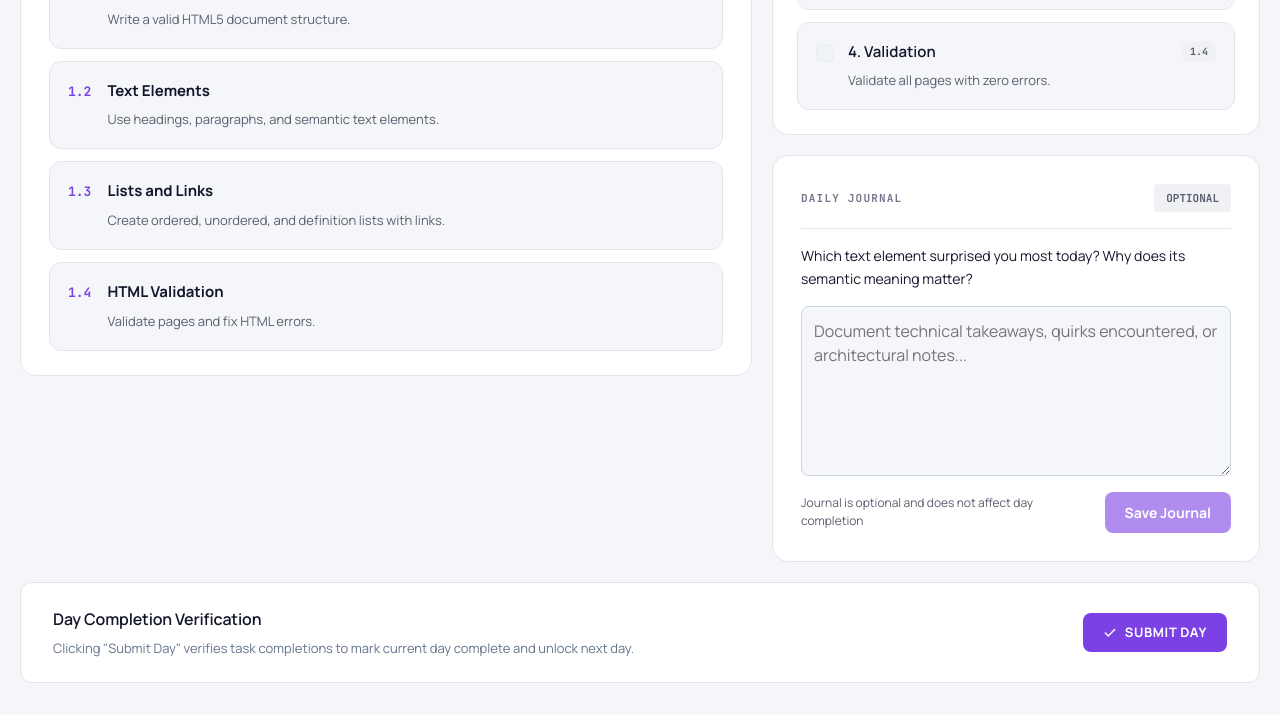
Test: DayOverviewPage: daily journal › shows an error and no success message when saving fails
This screenshot has width=1280, height=715.
(page scrolled)
Expected: the button "Save Journal" is shown, [1105,492,1231,533]
// The button is disabled while the journal is empty, so type first.
Step 1. Replace the text in the text box with "Some notes" → (1016, 391), box [801,306,1231,476]
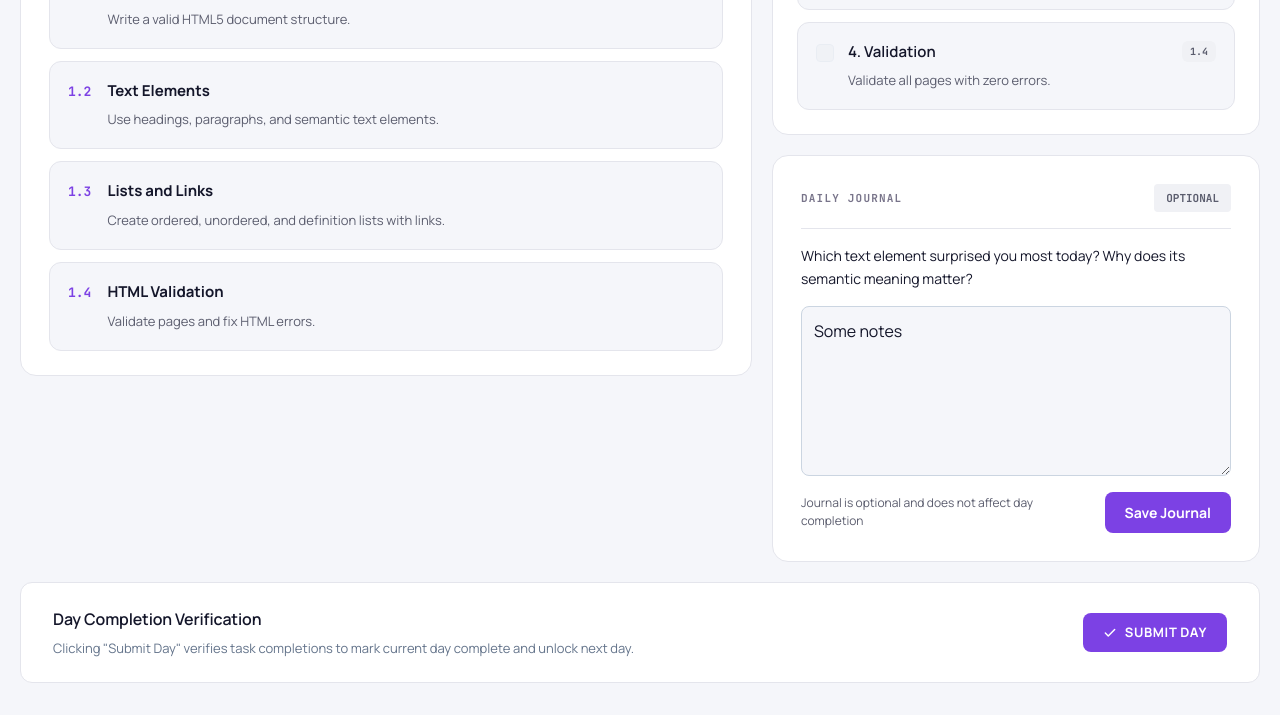
Step 2. Click the button "Save Journal" → (1168, 512), box [1105,492,1231,533]
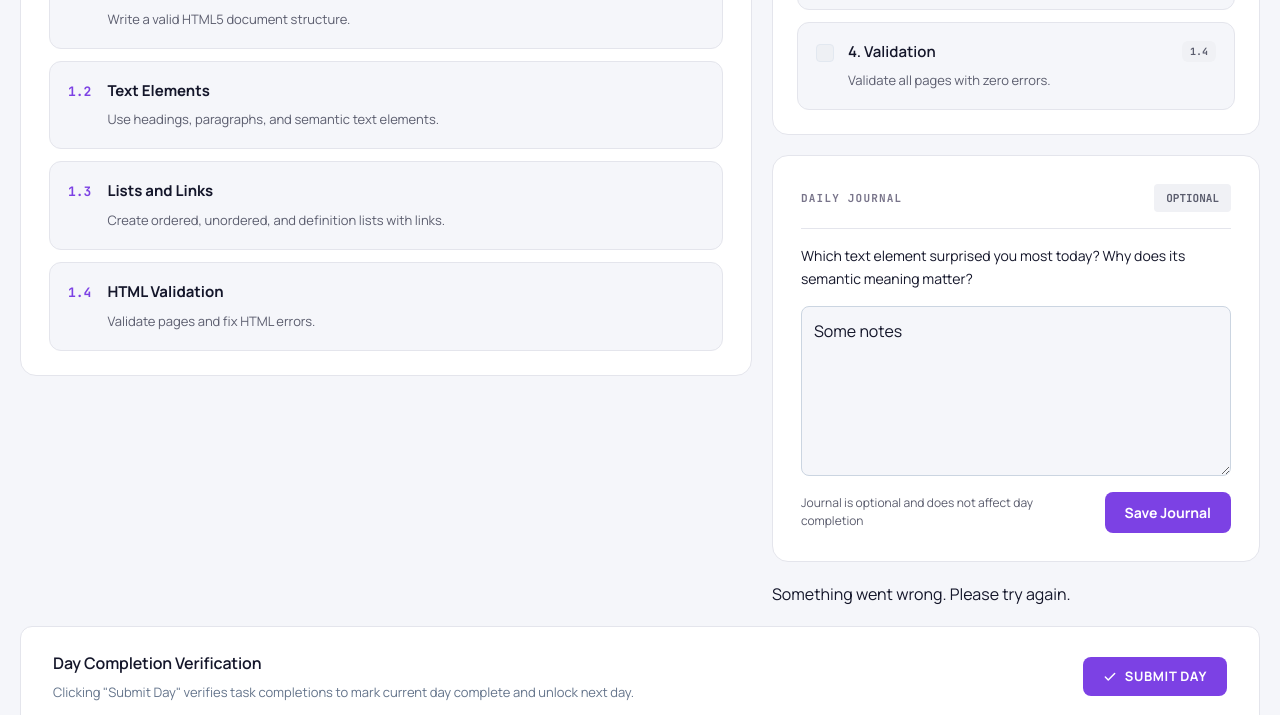
Result: the message "Something went wrong. Please try again." is shown at [772,583,1070,605]
